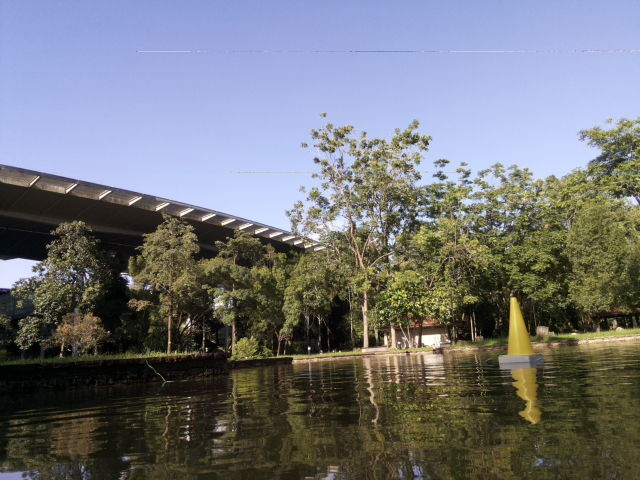checkpoint: (498, 294, 545, 371)
